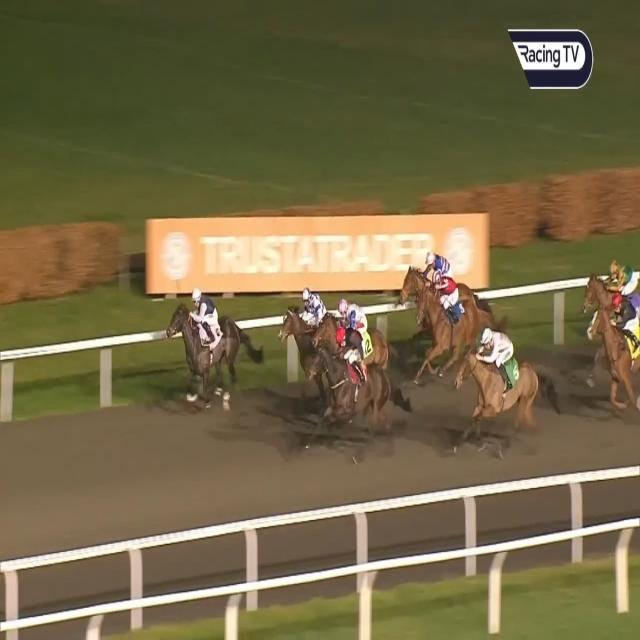horses-racing: (457, 330, 550, 443), (169, 289, 255, 411), (308, 323, 399, 436), (415, 269, 493, 387), (585, 297, 640, 410), (312, 293, 392, 368), (396, 246, 456, 318), (272, 287, 326, 355), (587, 252, 631, 314)
